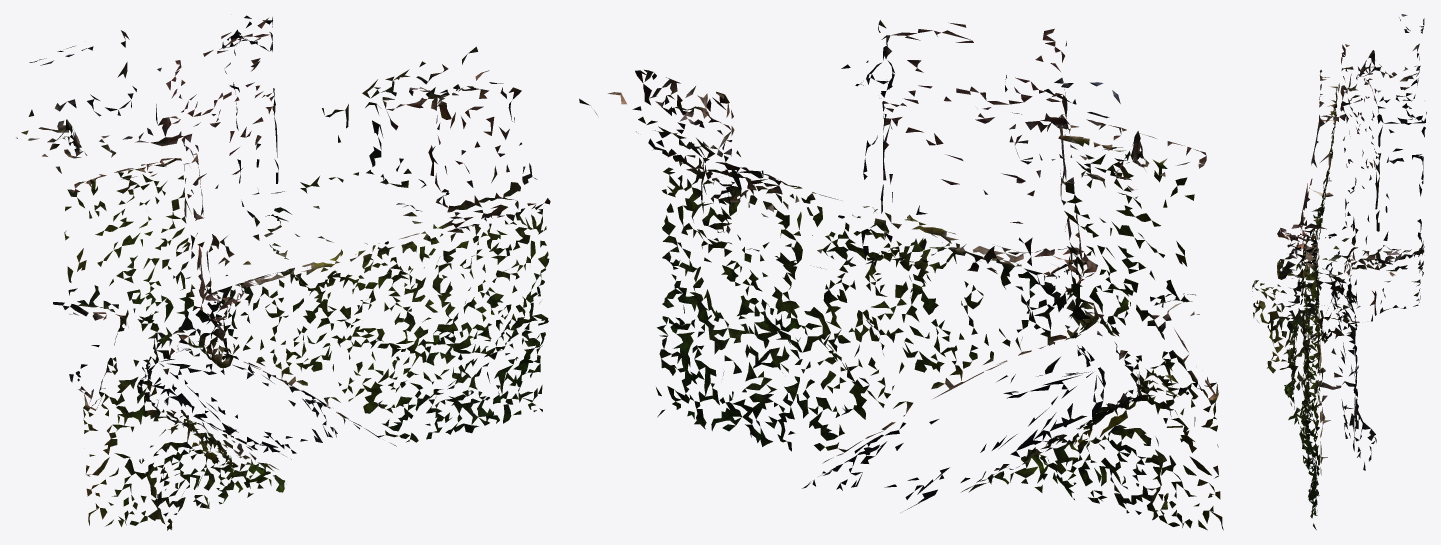
3 renders of one model, left to right at view 1: azimuth 30°, elevation 25°; view 2: azimuth 150°, elevation 25°; view 3: azimuth 270°, elevation 25°, orthographic. The views are drawn at different scales.
Size of the model in its own units: 25.13 by 22.41 by 10.
1 material, 1 textured.
